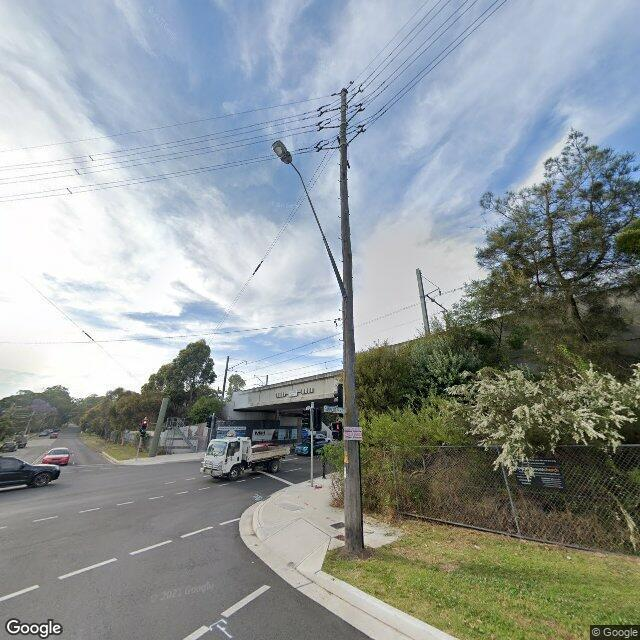HV-transmission: (315, 80, 367, 152)
steel-pole: (137, 417, 148, 456), (310, 402, 314, 487), (210, 413, 215, 440)
timber-pole: (338, 89, 364, 556), (415, 268, 431, 336), (223, 356, 229, 400), (266, 375, 268, 385)
traffic-light: (272, 140, 347, 299), (328, 421, 342, 440), (334, 383, 344, 408), (300, 409, 310, 430), (313, 408, 322, 431), (140, 420, 148, 436), (205, 416, 212, 428)
